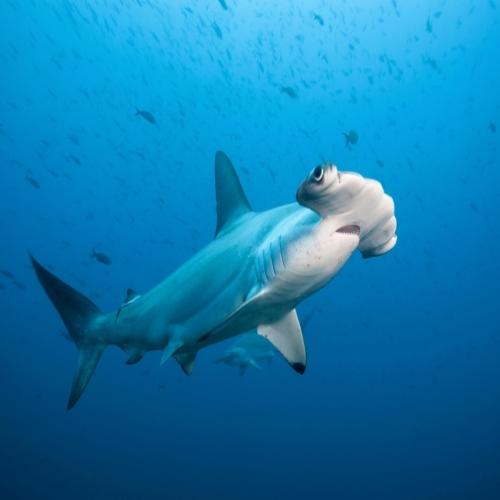shark-endangered: (27, 148, 398, 413)
